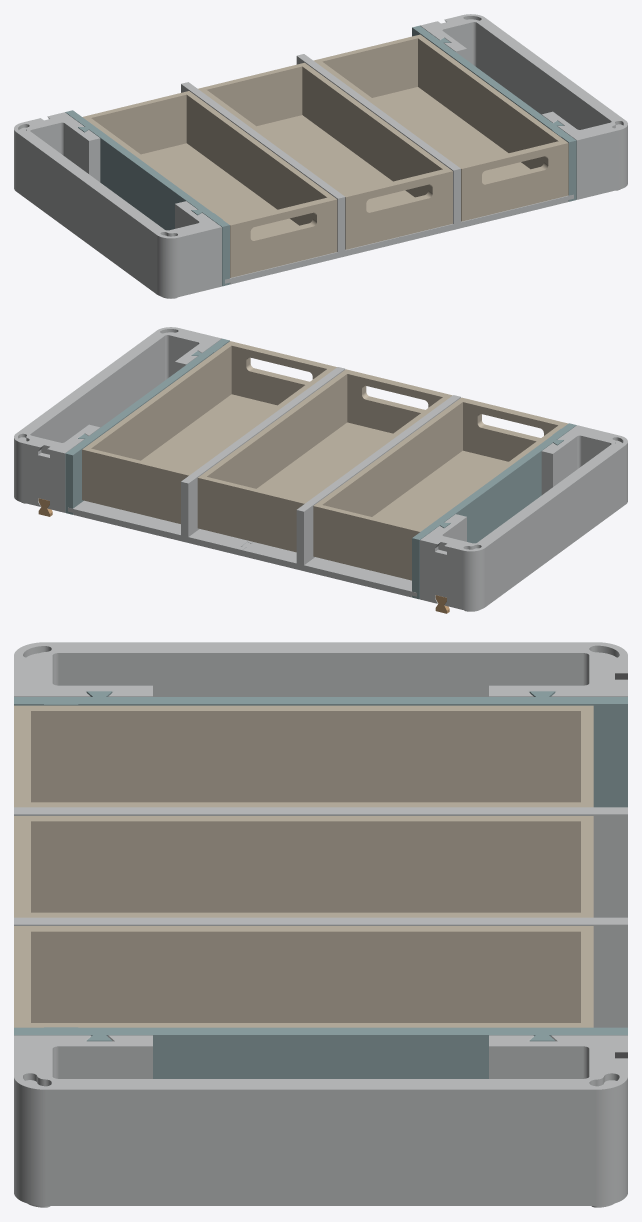
The model's file is layer-assembly.glb.
3 renders of one model, top to bottom at view 1: azimuth 30°, elevation 25°; view 2: azimuth 150°, elevation 25°; view 3: azimuth 270°, elevation 25°, orthographic. The views are drawn at different scales.
Parts seen in each view (by area): view 1: E05, E04, E03, E06, E07, E14, E15, E01, E02, E08, E09; view 2: E04, E05, E03, E06, E07, E14, E11, E10, E15, E01, E02; view 3: E07, E03, E04, E05, E06, E15, E14, E01, E02.
Part boxes in pixels (x1=…): E05: x1=313, y1=34, x2=568, y2=221; E04: x1=198, y1=62, x2=452, y2=249; E03: x1=82, y1=91, x2=337, y2=277; E06: x1=14, y1=112, x2=221, y2=298; E07: x1=420, y1=14, x2=627, y2=199; E14: x1=65, y1=110, x2=229, y2=286; E15: x1=412, y1=25, x2=576, y2=201; E01: x1=181, y1=82, x2=345, y2=252; E02: x1=296, y1=54, x2=460, y2=223; E08: x1=225, y1=237, x2=399, y2=284; E09: x1=399, y1=194, x2=573, y2=242; E04: x1=197, y1=369, x2=452, y2=552; E05: x1=82, y1=341, x2=336, y2=523; E03: x1=313, y1=397, x2=568, y2=580; E06: x1=420, y1=425, x2=627, y2=611; E07: x1=14, y1=327, x2=221, y2=512; E14: x1=412, y1=423, x2=576, y2=599; E11: x1=68, y1=500, x2=253, y2=555; E10: x1=241, y1=542, x2=416, y2=597; E15: x1=65, y1=338, x2=229, y2=514; E01: x1=296, y1=395, x2=460, y2=565; E02: x1=181, y1=367, x2=345, y2=536; E07: x1=14, y1=1035, x2=627, y2=1207; E03: x1=14, y1=705, x2=593, y2=807; E04: x1=14, y1=816, x2=593, y2=917; E05: x1=14, y1=926, x2=593, y2=1027; E06: x1=14, y1=642, x2=627, y2=696; E15: x1=14, y1=1027, x2=627, y2=1078; E14: x1=14, y1=691, x2=627, y2=807; E01: x1=14, y1=807, x2=627, y2=917; E02: x1=14, y1=917, x2=627, y2=1027.
Bounding box in the file's own units: 0.495 × 0.068 × 0.287.
